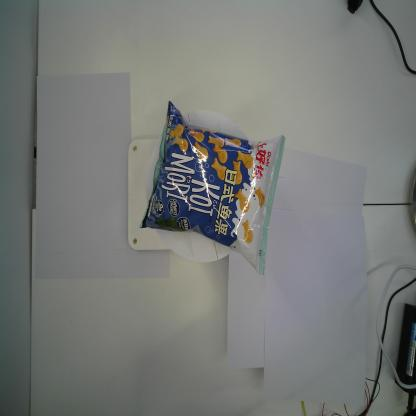Puffed Food: (138, 100, 286, 276)
